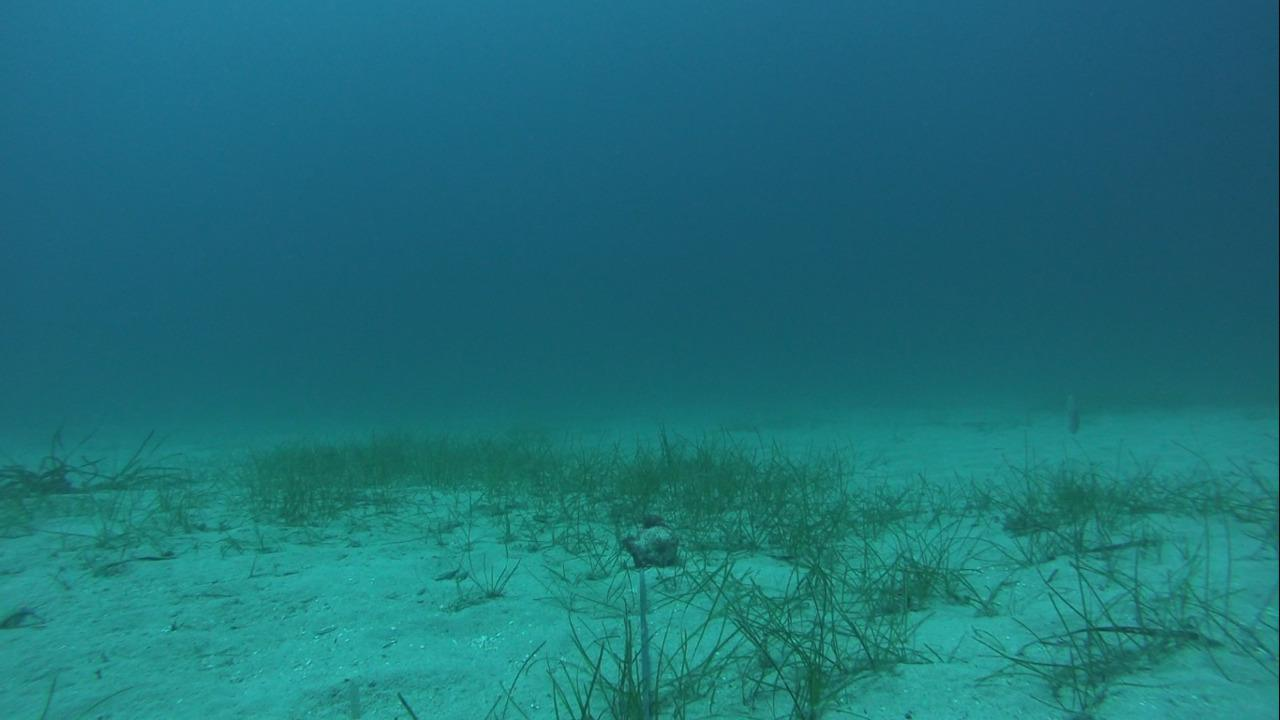raor: (1051, 384, 1088, 438)
